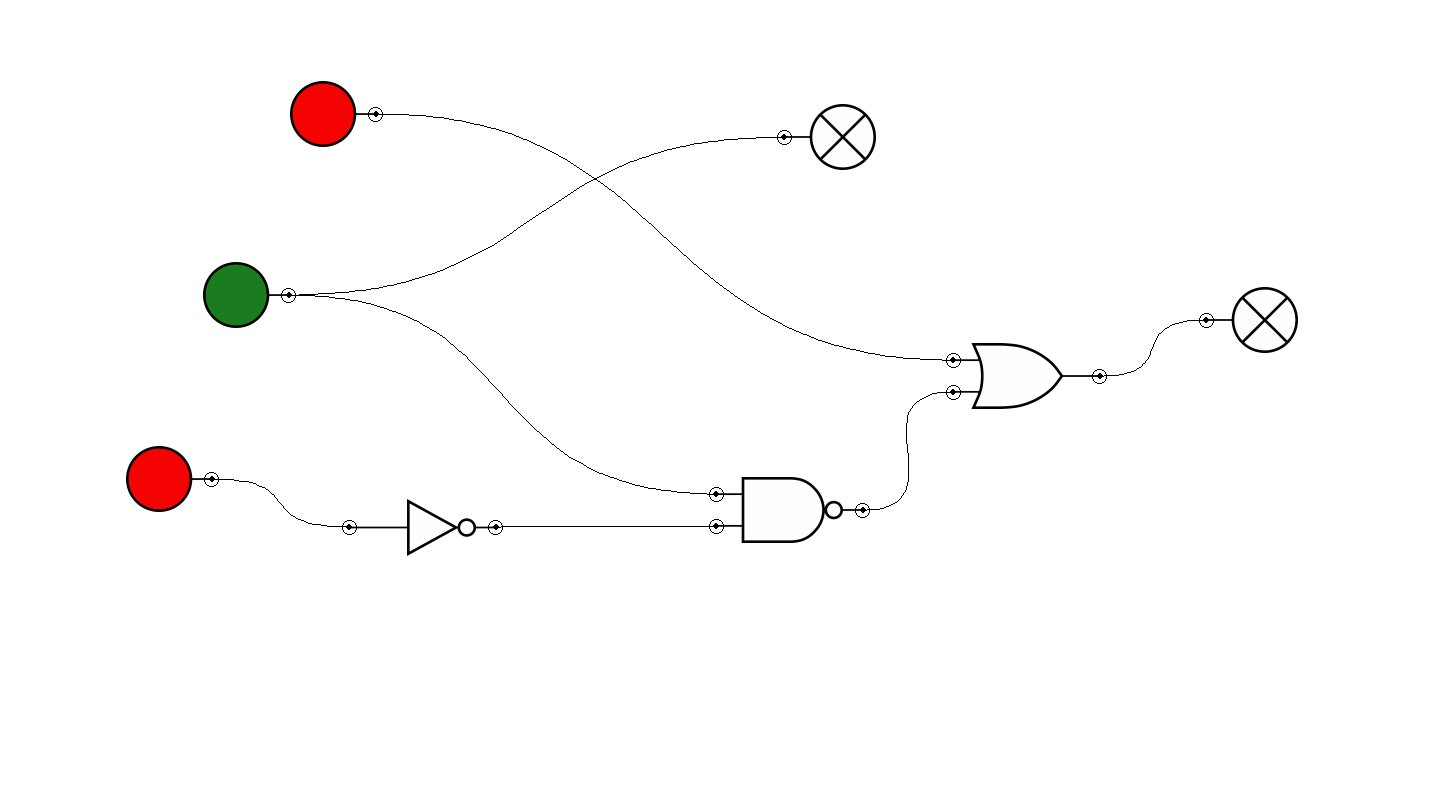bulb: (1199, 287, 1298, 353), (777, 104, 876, 170)
nand: (709, 477, 870, 543)
not: (342, 499, 503, 556)
or: (946, 343, 1107, 409)
switch_False: (290, 81, 383, 147), (126, 446, 219, 512)
switch_True: (203, 262, 296, 328)
